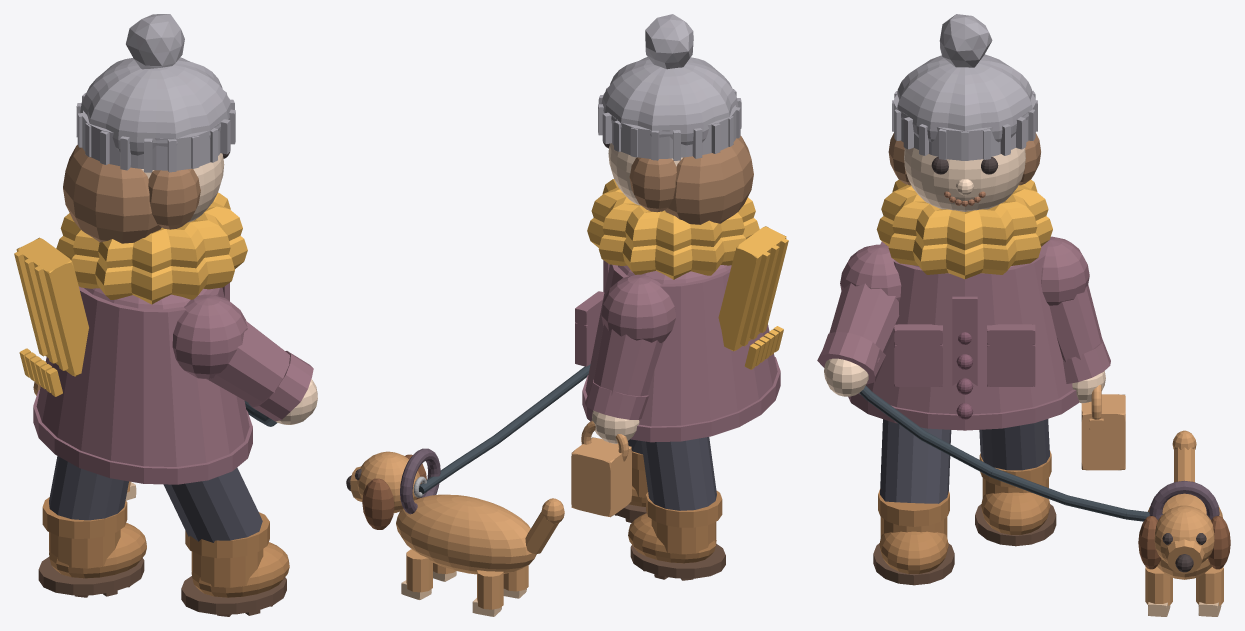
File: 09-dog-walker.glb
3 renders of one model, left to right at view 1: azimuth 30°, elevation 25°; view 2: azimuth 150°, elevation 25°; view 3: azimuth 270°, elevation 25°, orthographic. The views are drawn at different scales.
Parts seen in each view (by area): view 1: Coat, BeanieDome, HairBack, ScarfWrap2, ScarfWrap1, Leg_R, ShoulderPad_R, CoatHemBand, ScarfTail, Sleeve_R, Leg_L, HairSide_R (+17 smaller); view 2: Coat, DogBody, BeanieDome, HairBack, ScarfWrap2, Leg_L, ScarfWrap1, Bag, ShoulderPad_L, ScarfTail, Sleeve_L, CoatHemBand (+23 smaller); view 3: Coat, BeanieDome, ScarfWrap2, ScarfWrap1, Leg_R, Head, CoatHemBand, Sleeve_R, Bag, Leg_L, ShoulderPad_L, Sleeve_L (+34 smaller).
Boxes of the visible parts, left/top/right/bottom form: Coat: left=36, top=286, right=249, bottom=466; BeanieDome: left=80, top=57, right=231, bottom=155; HairBack: left=63, top=145, right=161, bottom=243; ScarfWrap2: left=60, top=192, right=242, bottom=272; ScarfWrap1: left=56, top=236, right=247, bottom=304; Leg_R: left=163, top=467, right=262, bottom=542; ShoulderPad_R: left=172, top=294, right=247, bottom=379; CoatHemBand: left=33, top=390, right=252, bottom=484; ScarfTail: left=16, top=237, right=88, bottom=376; Sleeve_R: left=207, top=320, right=289, bottom=405; Leg_L: left=49, top=456, right=128, bottom=520; HairSide_R: left=148, top=168, right=200, bottom=229; Coat: left=585, top=264, right=777, bottom=426; DogBody: left=396, top=494, right=536, bottom=574; BeanieDome: left=601, top=57, right=738, bottom=145; HairBack: left=665, top=135, right=753, bottom=224; ScarfWrap2: left=591, top=179, right=755, bottom=251; Leg_L: left=641, top=437, right=716, bottom=510; ScarfWrap1: left=587, top=218, right=759, bottom=279; Bag: left=571, top=437, right=631, bottom=517; ShoulderPad_L: left=601, top=274, right=675, bottom=343; ScarfTail: left=718, top=226, right=786, bottom=351; Sleeve_L: left=593, top=324, right=663, bottom=396; CoatHemBand: left=582, top=357, right=780, bottom=442; Coat: left=866, top=241, right=1072, bottom=414; BeanieDome: left=897, top=54, right=1032, bottom=142; ScarfWrap2: left=881, top=179, right=1048, bottom=250; ScarfWrap1: left=876, top=216, right=1052, bottom=279; Leg_R: left=880, top=419, right=951, bottom=503; Head: left=904, top=148, right=1025, bottom=211; CoatHemBand: left=848, top=389, right=1079, bottom=430; Sleeve_R: left=829, top=283, right=899, bottom=362; Bag: left=1081, top=394, right=1125, bottom=470; Leg_L: left=979, top=419, right=1049, bottom=470; ShoulderPad_L: left=1039, top=236, right=1089, bottom=305; Sleeve_L: left=1049, top=285, right=1101, bottom=362.
Bounding box in the file's own units: 0.8319 × 1.26 × 0.8945.
